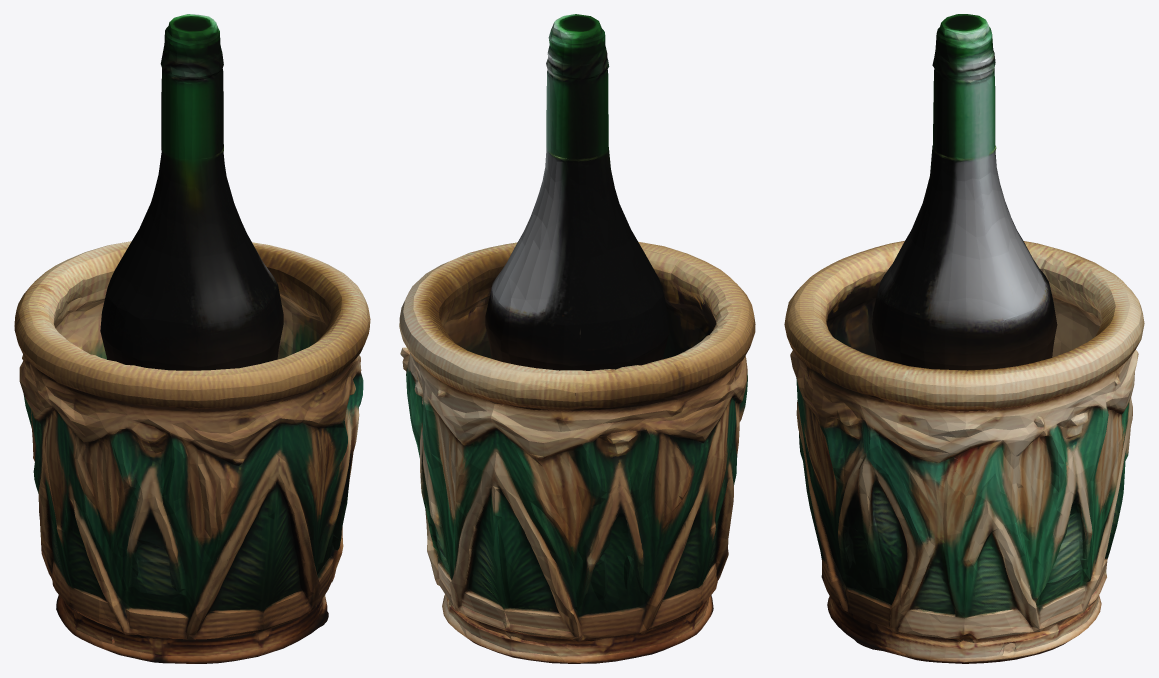
The model's file is handwoven-grass-bottle-holder-art-deco.jpeg.glb.
3 renders of one model, left to right at view 1: azimuth 30°, elevation 25°; view 2: azimuth 150°, elevation 25°; view 3: azimuth 270°, elevation 25°, orthographic.
Parts seen in each view (by area): view 1: world; view 2: world; view 3: world.
Boxes of the visible parts, x1,y1,x2,y2 form: world: [14, 14, 370, 663]; world: [399, 14, 755, 663]; world: [784, 14, 1144, 663].
Size of the model in its own units: 0.5576 by 1 by 0.556.
Materials: 1 (1 with a texture image).
